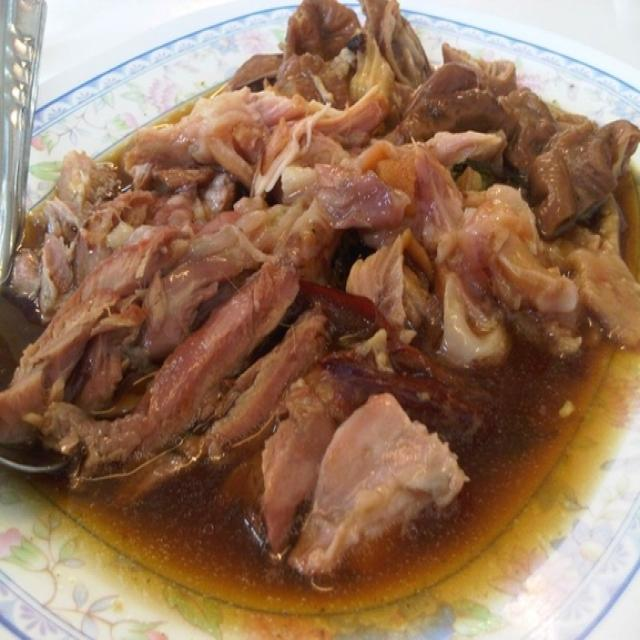猪肉菜式: (33, 28, 616, 597)
